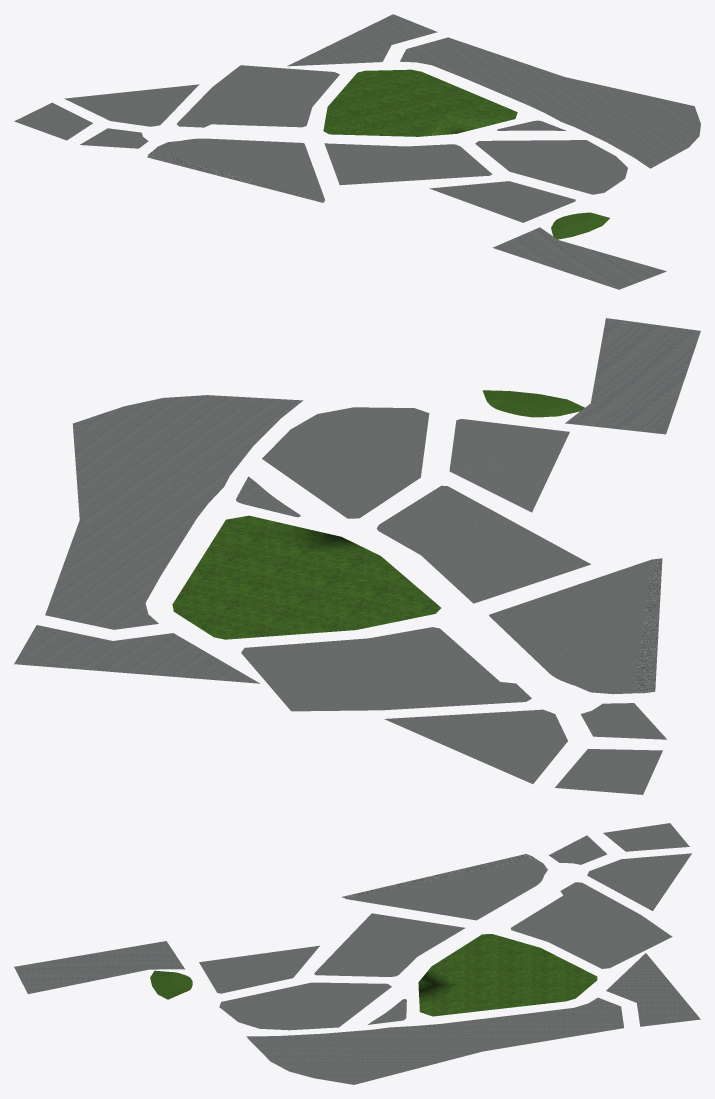
Rendered from puton_4ripe.FBX.
3 views of the same model, one above another, from view 1: azimuth 30°, elevation 25°; view 2: azimuth 150°, elevation 25°; view 3: azimuth 270°, elevation 25° (orthographic). The views are drawn at different scales.
Visible parts, largest first — view 1: tg12_d_02, l_road-inside_9; view 2: tg12_d_02, l_road-inside_9; view 3: tg12_d_02, l_road-inside_9.
Part boxes in pixels (x1=…): tg12_d_02: x1=14, y1=14, x2=700, y2=289; l_road-inside_9: x1=323, y1=69, x2=609, y2=239; tg12_d_02: x1=14, y1=318, x2=700, y2=794; l_road-inside_9: x1=172, y1=390, x2=584, y2=639; tg12_d_02: x1=14, y1=823, x2=700, y2=1084; l_road-inside_9: x1=150, y1=934, x2=597, y2=1016.
Size of the model in its own units: 1297 by 13.35 by 1437.
